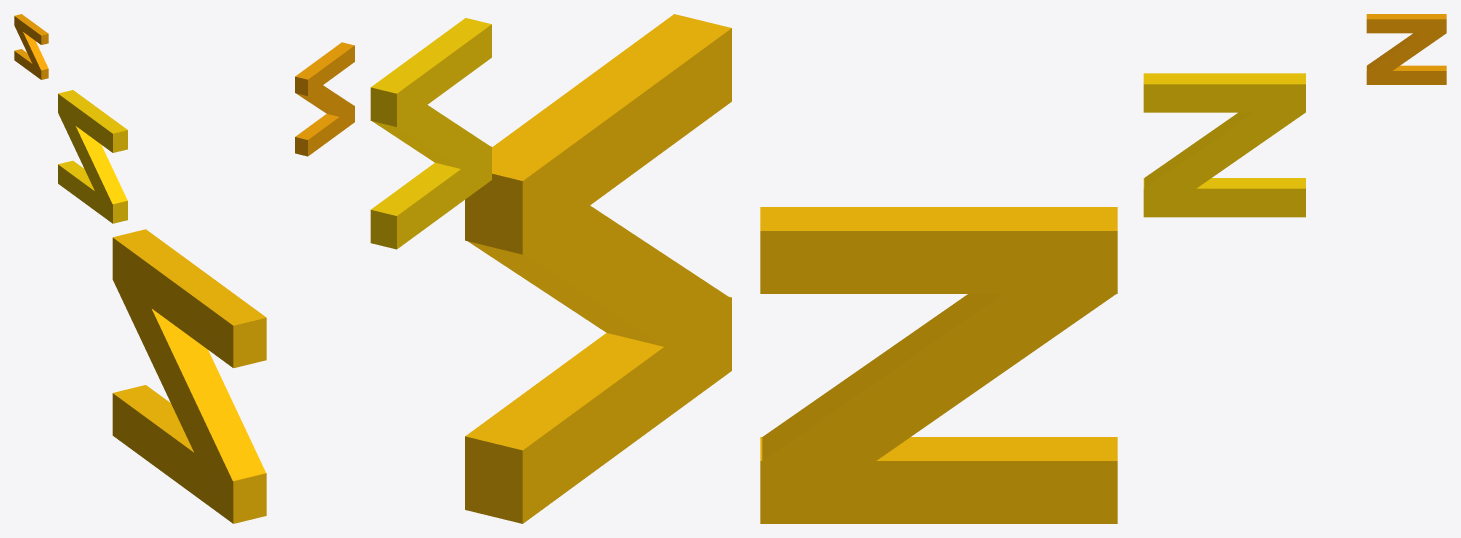
Rendered from zzz.fbx.
3 views of the same model, side by side, from view 1: azimuth 30°, elevation 25°; view 2: azimuth 150°, elevation 25°; view 3: azimuth 270°, elevation 25° (orthographic). The views are drawn at different scales.
Visible parts, largest first — view 1: Cube, Cube.001, Cube.002; view 2: Cube, Cube.001, Cube.002; view 3: Cube, Cube.001, Cube.002.
Boxes of the visible parts, x1,y1,x2,y2 form: Cube: (112, 229, 266, 523); Cube.001: (58, 90, 127, 223); Cube.002: (14, 14, 48, 79); Cube: (465, 14, 731, 523); Cube.001: (370, 18, 491, 249); Cube.002: (295, 42, 354, 156); Cube: (760, 207, 1117, 523); Cube.001: (1143, 73, 1305, 217); Cube.002: (1366, 14, 1446, 84).
Size of the model in its own units: 18.45 by 177 by 223.
